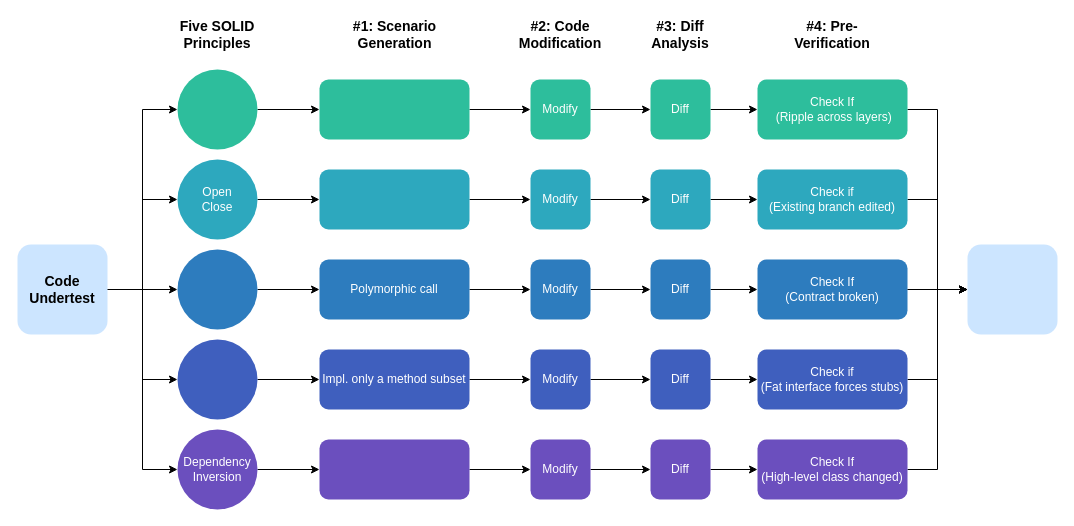
The diagram is 1074 pixels wide and 526 high, and some of its shapes have lost their labels. The shapes that lost their labels are listed below. From the top down, each one's box as (x1, y1, x2, y2) in pixels, then its label:
(177, 69, 257, 149): Single Responsibility
(319, 79, 469, 139): Single-layer change request
(319, 169, 469, 229): Add new type/variant
(177, 249, 257, 329): Liskov Subsititution
(967, 244, 1057, 334): Design Defects Detection
(177, 339, 257, 419): Interface Segregation
(319, 439, 469, 499): Swap concrete dependency
